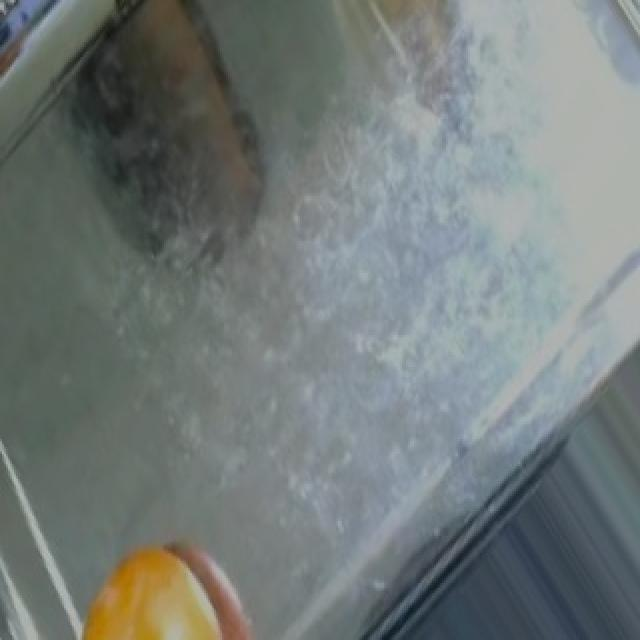Fruit: (66, 531, 238, 637), (288, 0, 484, 79)
